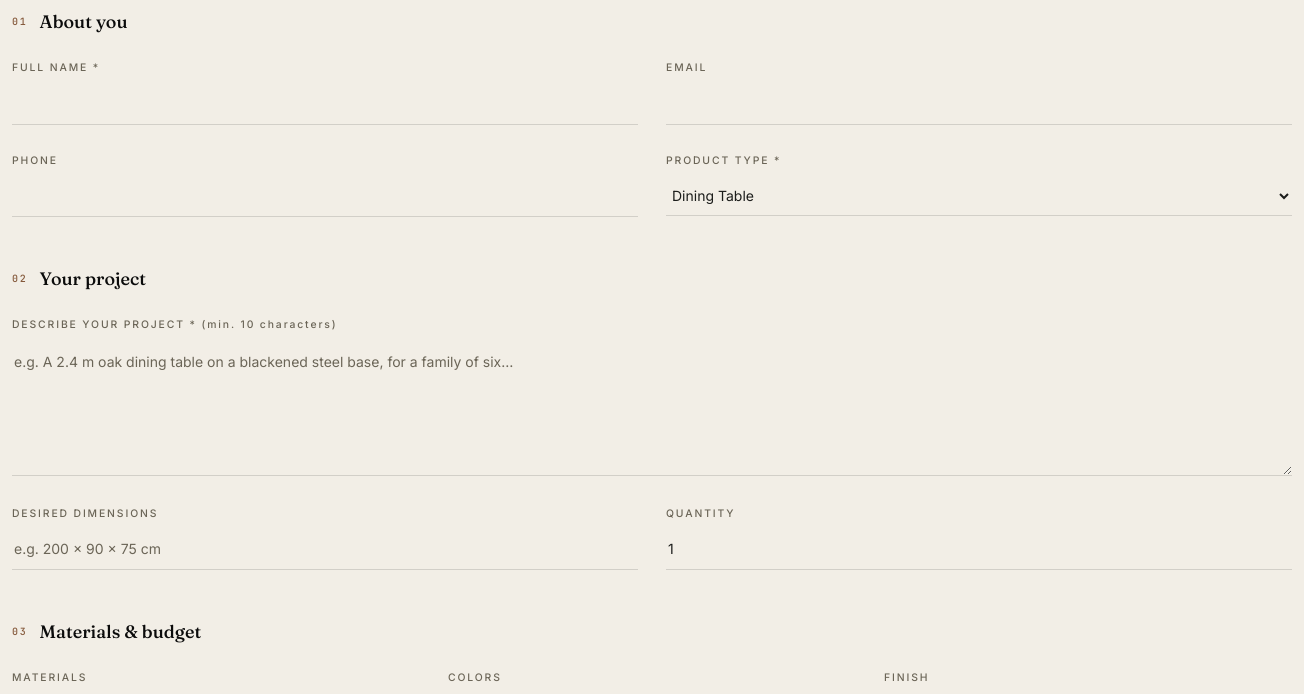
Test: CustomRequestForm › blocks submission when description is too short
This screenshot has width=1304, height=694.
Type "A B" into the field labelled "Full name *" at (325, 104), box top-left (12, 84), bottom-right (638, 125)
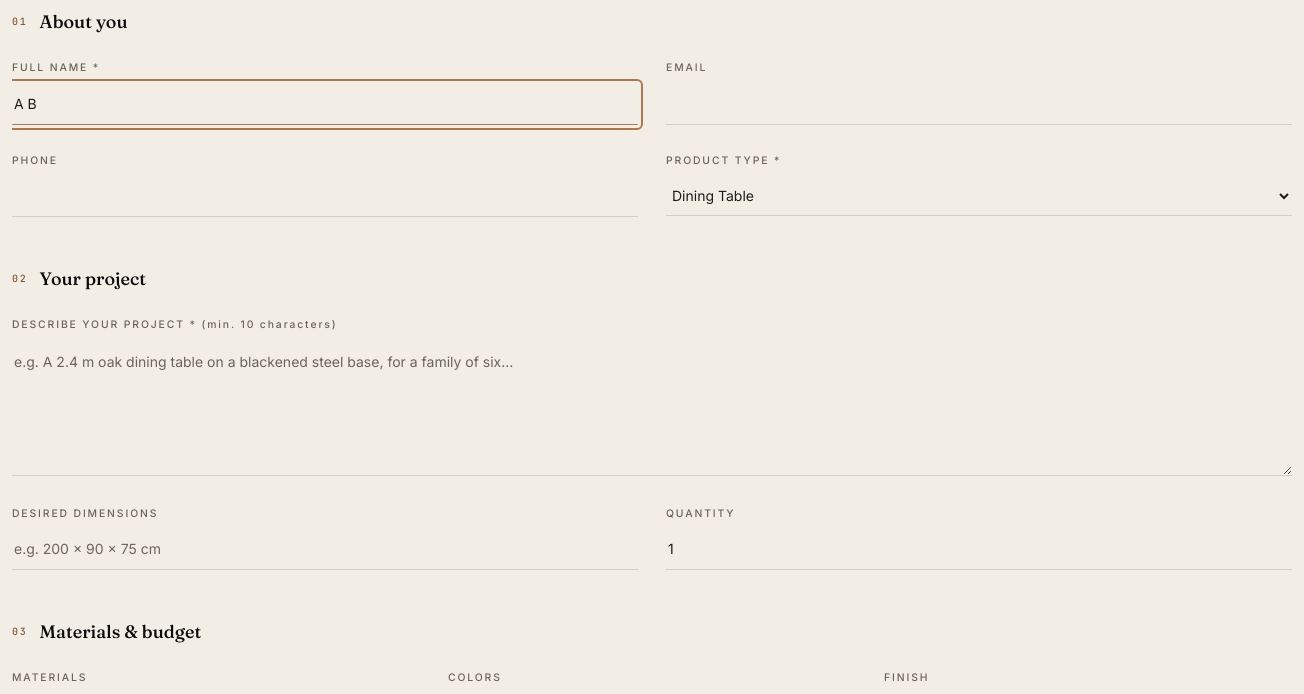
Type "short" into the text box labelled "Describe your project * (min. 10 characters)" at (652, 408), box top-left (12, 341), bottom-right (1292, 476)
(page scrolled)
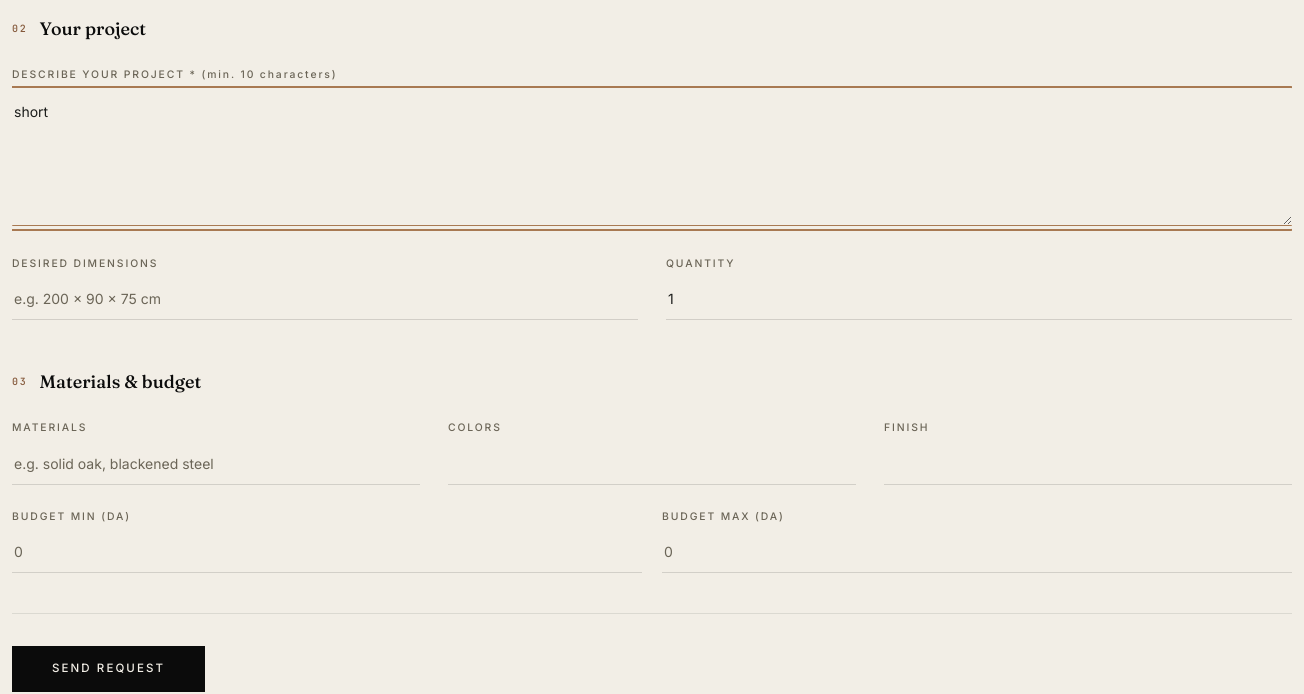
Click the button "Send request" at (108, 669), box top-left (12, 646), bottom-right (205, 692)
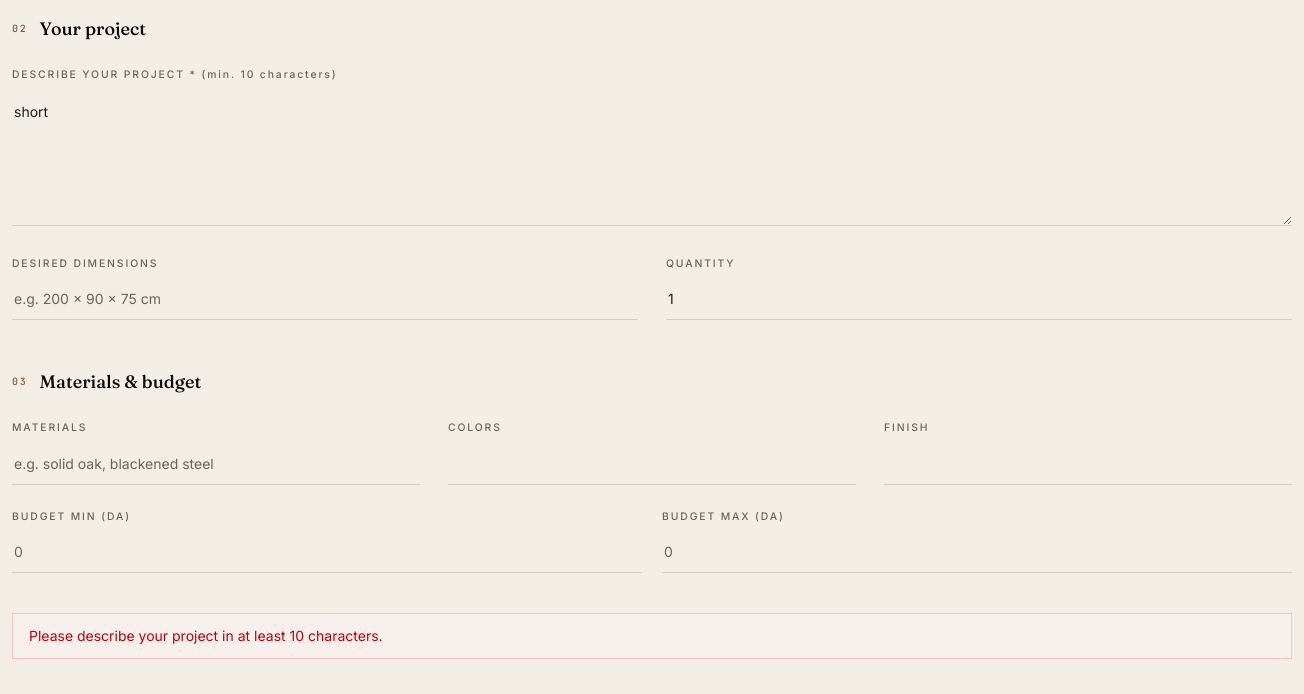
Expected: the message reads "Please describe your project in at least 10 characters.", top-left (29, 627), bottom-right (383, 644)
